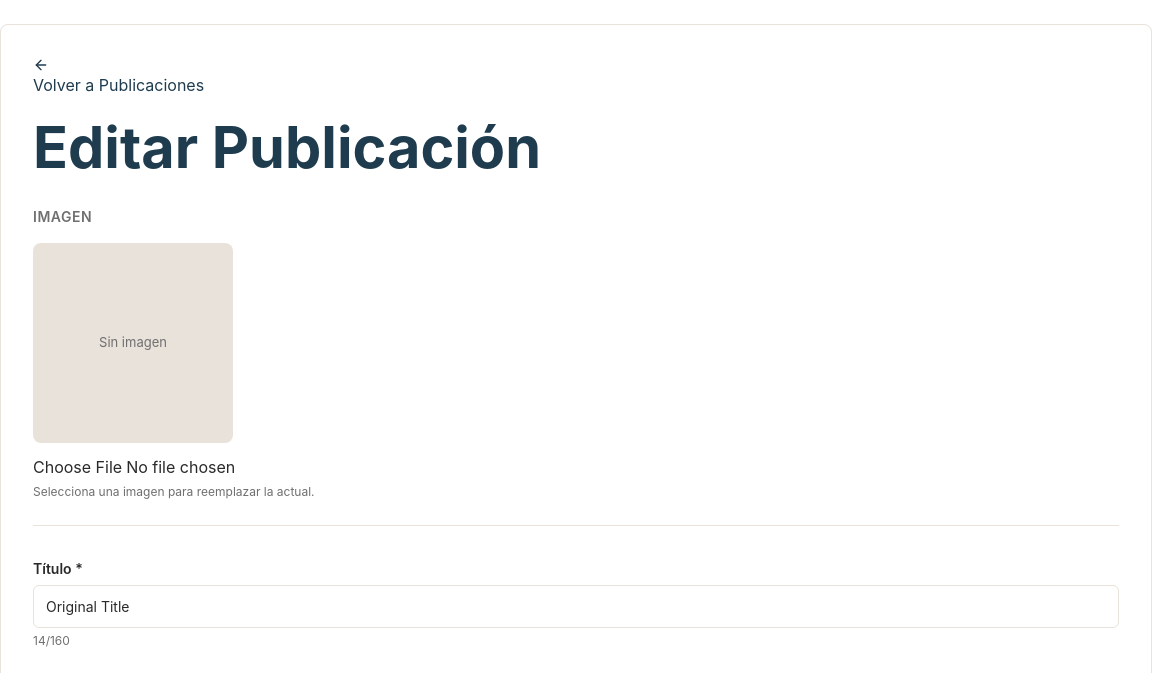
Test case: EditPostForm — with post › shows validation error when title is cleared and form submitted
Clear the field labelled "Título *" at [576, 607], box [33, 585, 1119, 628]
(page scrolled)
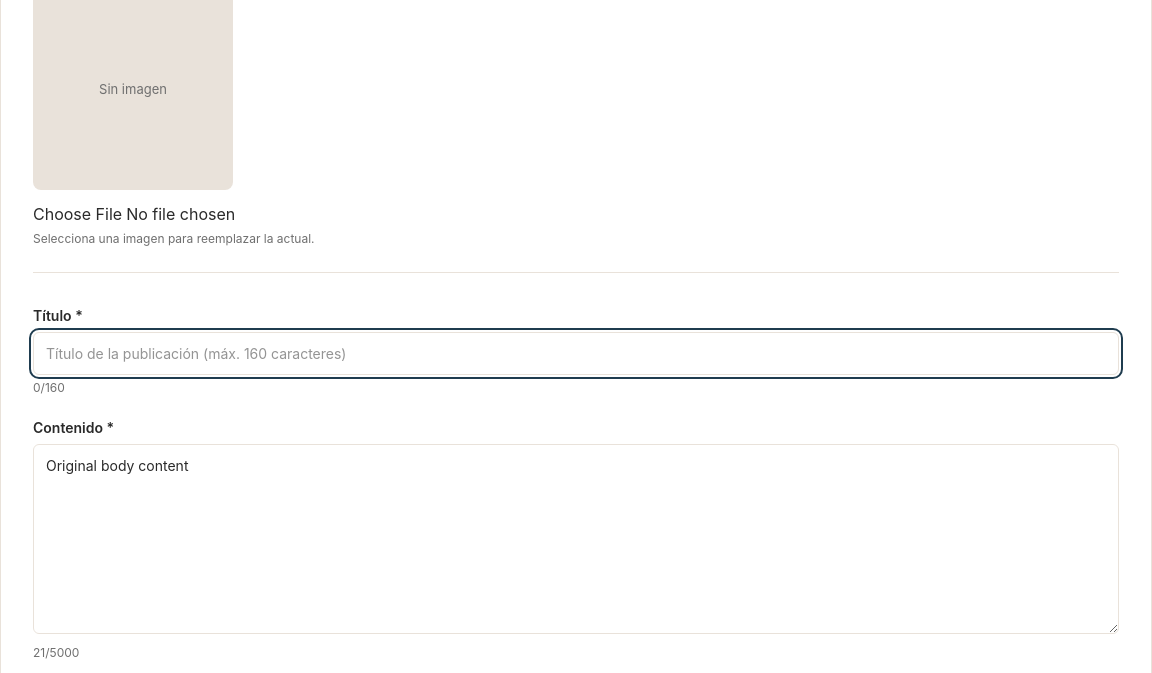
Submit the form named "guardar cambios"
(page scrolled)
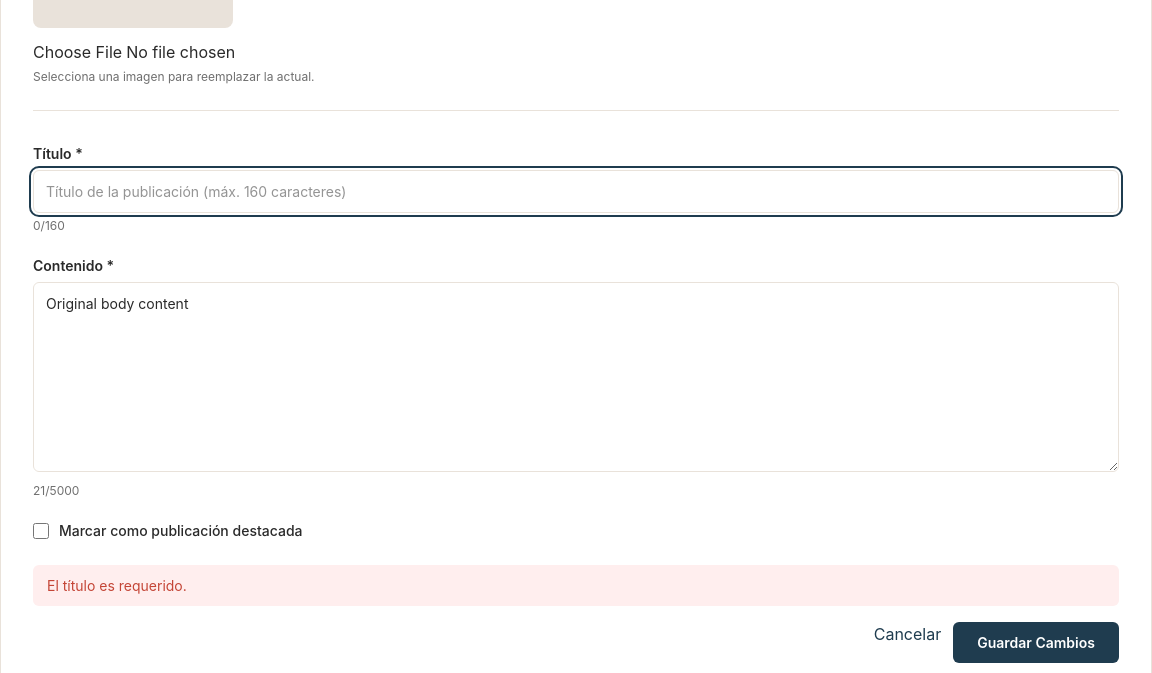
Result: the text "El título es requerido." is shown at [33, 565, 1119, 606]
